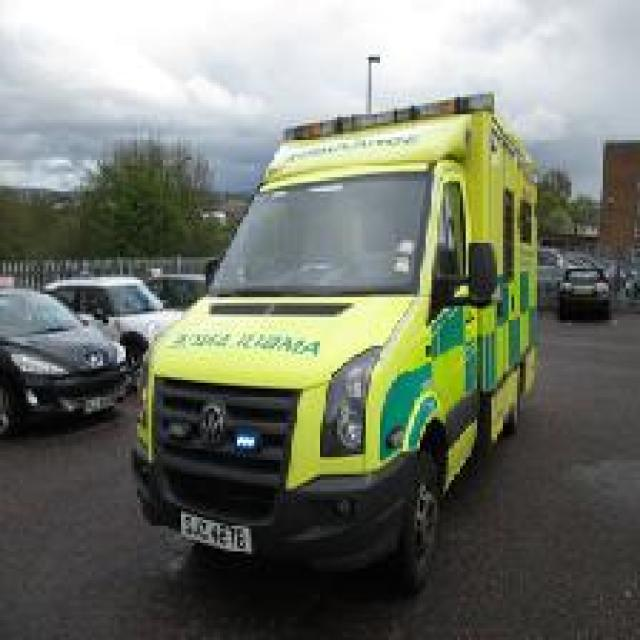Ambulance: (129, 89, 540, 592)
Car: (0, 282, 134, 437)
